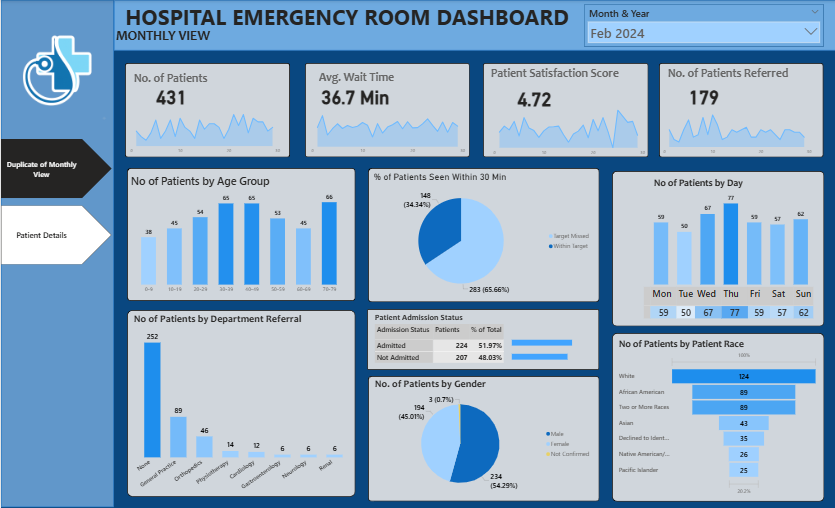

This screenshot's page, from the dashboard's own definition file:
{"tool":"powerbi","page":{"name":"Monthly View","canvas":[2300,1400],"ordinal":0},"visuals":[{"type":"shape","box":[0,0,310.9,1397.5],"z":0},{"type":"shape","box":[310.9,0,1989.1,138.8],"z":1000},{"type":"shape","box":[341.6,173.6,455,260.4],"z":2000},{"type":"textbox","box":[310.8,0,1285.2,103.6],"z":3000},{"type":"textbox","box":[310.8,70,392,70],"z":4000},{"type":"card","fields":{"Values":["Hospital ER_Data.No of Patients"]},"box":[344,220,250,84],"z":5000},{"type":"slicer","fields":{"Values":["Date Table.Month & Year"]},"box":[1607.2,11.2,660.8,117.6],"z":6000},{"type":"textbox","box":[361.4,191.4,232.9,54.3],"z":7000},{"type":"areaChart","fields":{"Y":["Hospital ER_Data.No of Patients"],"Category":["Date Table.Date.Variation.Date Hierarchy.Day"]},"box":[345,287.5,432.5,145],"z":8000},{"type":"shape","box":[838,174,454,260],"z":10000},{"type":"card","fields":{"Values":["Hospital ER_Data.Avg Wait Time"]},"box":[852,218,250,86],"z":11000},{"type":"textbox","box":[870,188,232,54],"z":12000},{"type":"areaChart","fields":{"Category":["Date Table.Date.Variation.Date Hierarchy.Day"],"Y":["Avg(Hospital ER_Data.Patient Waittime)"]},"box":[844,288,444,144],"z":13000},{"type":"shape","box":[1328,174,456,260],"z":14000},{"type":"card","fields":{"Values":["Hospital ER_Data.Satisfaction Score"]},"box":[1346,226,250,84],"z":15000},{"type":"textbox","box":[1346,176,378,50],"z":16000},{"type":"areaChart","fields":{"Category":["Date Table.Date.Variation.Date Hierarchy.Day"],"Y":["Hospital ER_Data.Satisfaction Score"]},"box":[1346,290,438,148],"z":17000},{"type":"shape","box":[1814.4,173.6,453.6,260.4],"z":18000},{"type":"card","fields":{"Values":["Hospital ER_Data.No of Patients Referred"]},"box":[1811.6,221.2,252,84],"z":19000},{"type":"textbox","box":[1834,176.4,358.4,50.4],"z":20000},{"type":"areaChart","fields":{"Category":["Date Table.Date.Variation.Date Hierarchy.Day"],"Y":["Hospital ER_Data.No of Patients Referred"]},"box":[1814.4,288.4,428.4,145.6],"z":21000},{"type":"shape","box":[1010,852,640,168],"z":22000},{"type":"pivotTable","title":"Patient Admission Status","fields":{"Rows":["Hospital ER_Data.Admission Status"],"Values":["Hospital ER_Data.No of Patients1","Hospital ER_Data.No of Patients"]},"box":[1024.8,859.6,378,162.4],"z":23000},{"type":"barChart","fields":{"Category":["Hospital ER_Data.Admission Status"],"Y":["Hospital ER_Data.No of Patients"]},"box":[1402.8,904.4,232.4,114.8],"z":24000},{"type":"shape","box":[347.2,462,630,366.8],"z":25000},{"type":"clusteredColumnChart","fields":{"Category":["Hospital ER_Data.Age Group"],"Y":["Hospital ER_Data.No of Patients"]},"box":[352.8,476,607.6,341.6],"z":26000},{"type":"shape","box":[347.2,854,630,515.2],"z":27000},{"type":"clusteredColumnChart","fields":{"Category":["Hospital ER_Data.Department Referral"],"Y":["Hospital ER_Data.No of Patients"]},"box":[361.2,859.6,616,509.6],"z":28000},{"type":"shape","box":[1012,462,638,370],"z":29000},{"type":"pieChart","title":"% of Patients Seen Within 30 Min","fields":{"Category":["Hospital ER_Data.Waittime Status"],"Y":["Hospital ER_Data.No of Patients"]},"box":[1022,472,612,356],"z":30000},{"type":"shape","box":[1012,1036,638,346],"z":31000},{"type":"pieChart","title":"No. of Patients by Gender","fields":{"Y":["Hospital ER_Data.No of Patients"],"Category":["Hospital ER_Data.Patient Gender"]},"box":[1024,1038,610,332],"z":32000},{"type":"shape","box":[1682.8,918.4,585.2,464.8],"z":33000},{"type":"funnel","fields":{"Category":["Hospital ER_Data.Patient Race"],"Y":["Hospital ER_Data.No of Patients"]},"box":[1696.8,932.4,557.2,436.8],"z":34000},{"type":"shape","box":[1682.8,470.4,585.2,428.4],"z":35000},{"type":"pivotTable","fields":{"Columns":["Date Table.Day Name"],"Values":["Hospital ER_Data.No of Patients"]},"box":[1766.8,786.8,501.2,126],"z":36000},{"type":"columnChart","title":"No of Patients by Day ","fields":{"Category":["Date Table.Day Name"],"Y":["Hospital ER_Data.No of Patients"]},"box":[1794.8,487.2,436.8,302.4],"z":37000},{"type":"pageNavigator","box":[0,383.6,305.2,347.2],"z":39000},{"type":"image","box":[5.5,11,300.4,372],"z":39002}]}

Visuals, with their boxes in screenshot pixels (x1, y1, x2, y2), scaled from the page's 2300x1400 canvas onto the 835x508 screenshot:
shape: l=0, t=0, r=113, b=507
shape: l=113, t=0, r=834, b=50
shape: l=124, t=63, r=289, b=157
textbox: l=113, t=0, r=579, b=38
textbox: l=113, t=25, r=255, b=51
card - Hospital ER_Data.No of Patients: l=125, t=80, r=216, b=110
slicer - Date Table.Month & Year: l=583, t=4, r=823, b=47
textbox: l=131, t=69, r=216, b=89
areaChart - Hospital ER_Data.No of Patients x Date Table.Date.Variation.Date Hierarchy.Day: l=125, t=104, r=282, b=157
shape: l=304, t=63, r=469, b=157
card - Hospital ER_Data.Avg Wait Time: l=309, t=79, r=400, b=110
textbox: l=316, t=68, r=400, b=88
areaChart - Date Table.Date.Variation.Date Hierarchy.Day x Avg(Hospital ER_Data.Patient Waittime): l=306, t=105, r=468, b=157
shape: l=482, t=63, r=648, b=157
card - Hospital ER_Data.Satisfaction Score: l=489, t=82, r=579, b=112
textbox: l=489, t=64, r=626, b=82
areaChart - Date Table.Date.Variation.Date Hierarchy.Day x Hospital ER_Data.Satisfaction Score: l=489, t=105, r=648, b=159
shape: l=659, t=63, r=823, b=157
card - Hospital ER_Data.No of Patients Referred: l=658, t=80, r=749, b=111
textbox: l=666, t=64, r=796, b=82
areaChart - Date Table.Date.Variation.Date Hierarchy.Day x Hospital ER_Data.No of Patients Referred: l=659, t=105, r=814, b=157
shape: l=367, t=309, r=599, b=370
"Patient Admission Status" pivotTable: l=372, t=312, r=509, b=371
barChart - Hospital ER_Data.Admission Status x Hospital ER_Data.No of Patients: l=509, t=328, r=594, b=370
shape: l=126, t=168, r=355, b=301
clusteredColumnChart - Hospital ER_Data.Age Group x Hospital ER_Data.No of Patients: l=128, t=173, r=349, b=297
shape: l=126, t=310, r=355, b=497
clusteredColumnChart - Hospital ER_Data.Department Referral x Hospital ER_Data.No of Patients: l=131, t=312, r=355, b=497
shape: l=367, t=168, r=599, b=302
"% of Patients Seen Within 30 Min" pieChart: l=371, t=171, r=593, b=300
shape: l=367, t=376, r=599, b=501
"No. of Patients by Gender" pieChart: l=372, t=377, r=593, b=497
shape: l=611, t=333, r=823, b=502
funnel - Hospital ER_Data.Patient Race x Hospital ER_Data.No of Patients: l=616, t=338, r=818, b=497
shape: l=611, t=171, r=823, b=326
pivotTable - Date Table.Day Name x Hospital ER_Data.No of Patients: l=641, t=285, r=823, b=331
"No of Patients by Day " columnChart: l=652, t=177, r=810, b=287
pageNavigator: l=0, t=139, r=111, b=265
image: l=2, t=4, r=111, b=139
